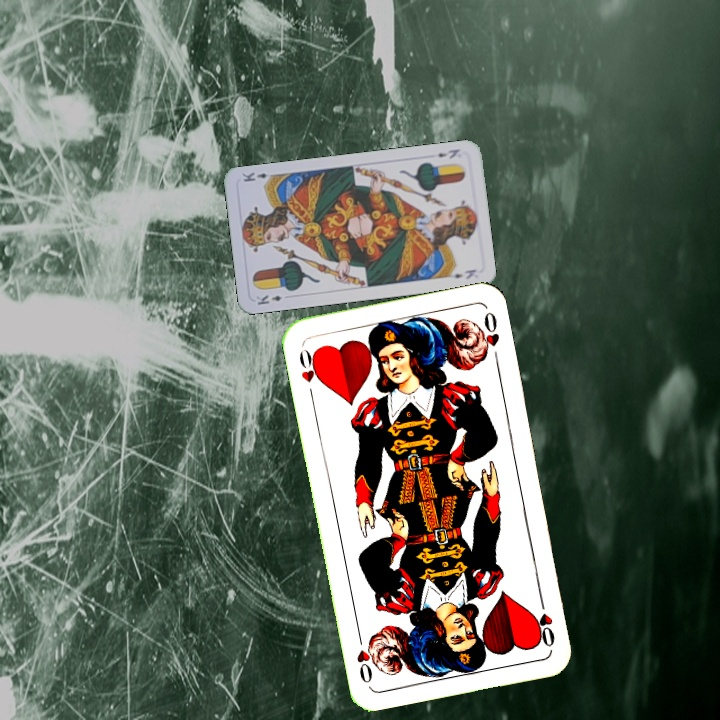EK: (252, 291, 285, 307), (433, 145, 462, 161)
HO: (295, 342, 324, 401), (531, 591, 558, 650)
